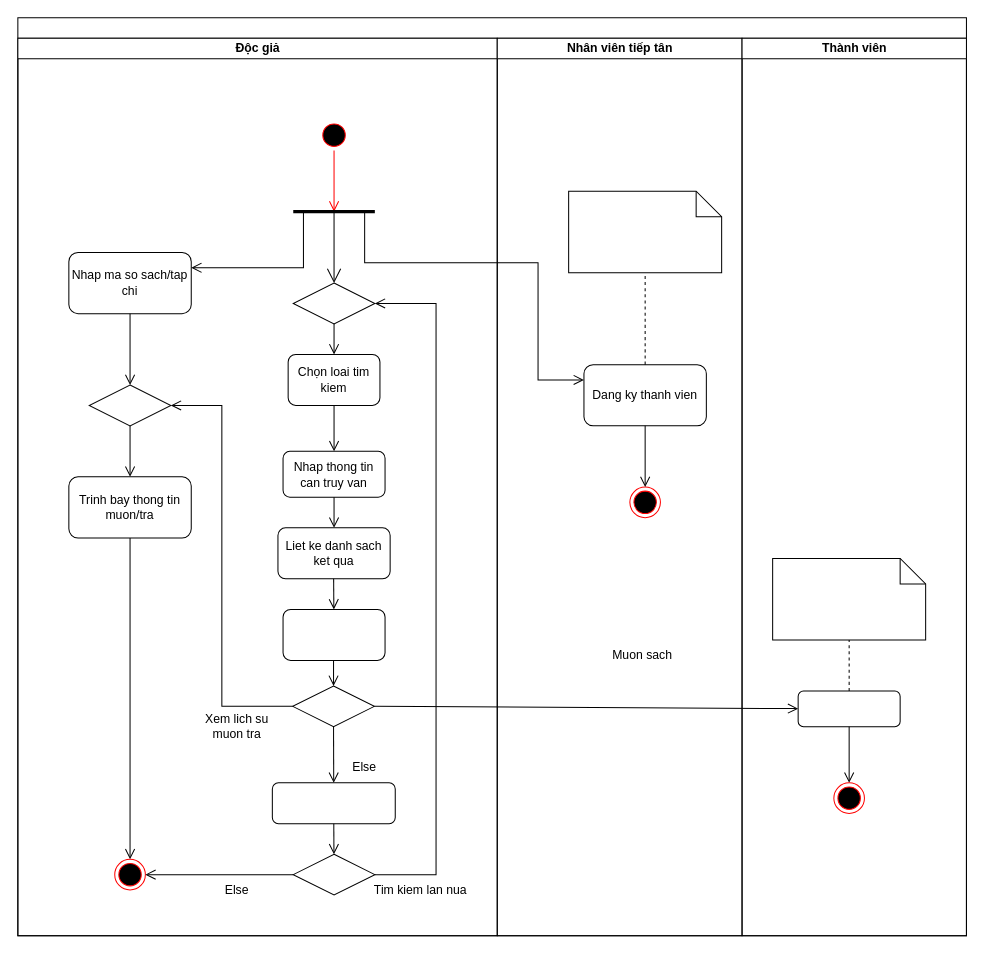
Some shapes in this 984 by 954 pixel diagram are drawn without their labels. Here are the shapes that lost their labels. From the top down, the centre of each, then its label:
(x=645, y=231): Xem them chi tiet trong AD cua "nhan vien tiep tan"
(x=849, y=598): Xem them chi tiet trong AD cua "thanh vien"
(x=333, y=634): Chon 1 thanh phan
(x=848, y=708): Xu ly muon sach
(x=333, y=803): Trinh bay thong tin sach
